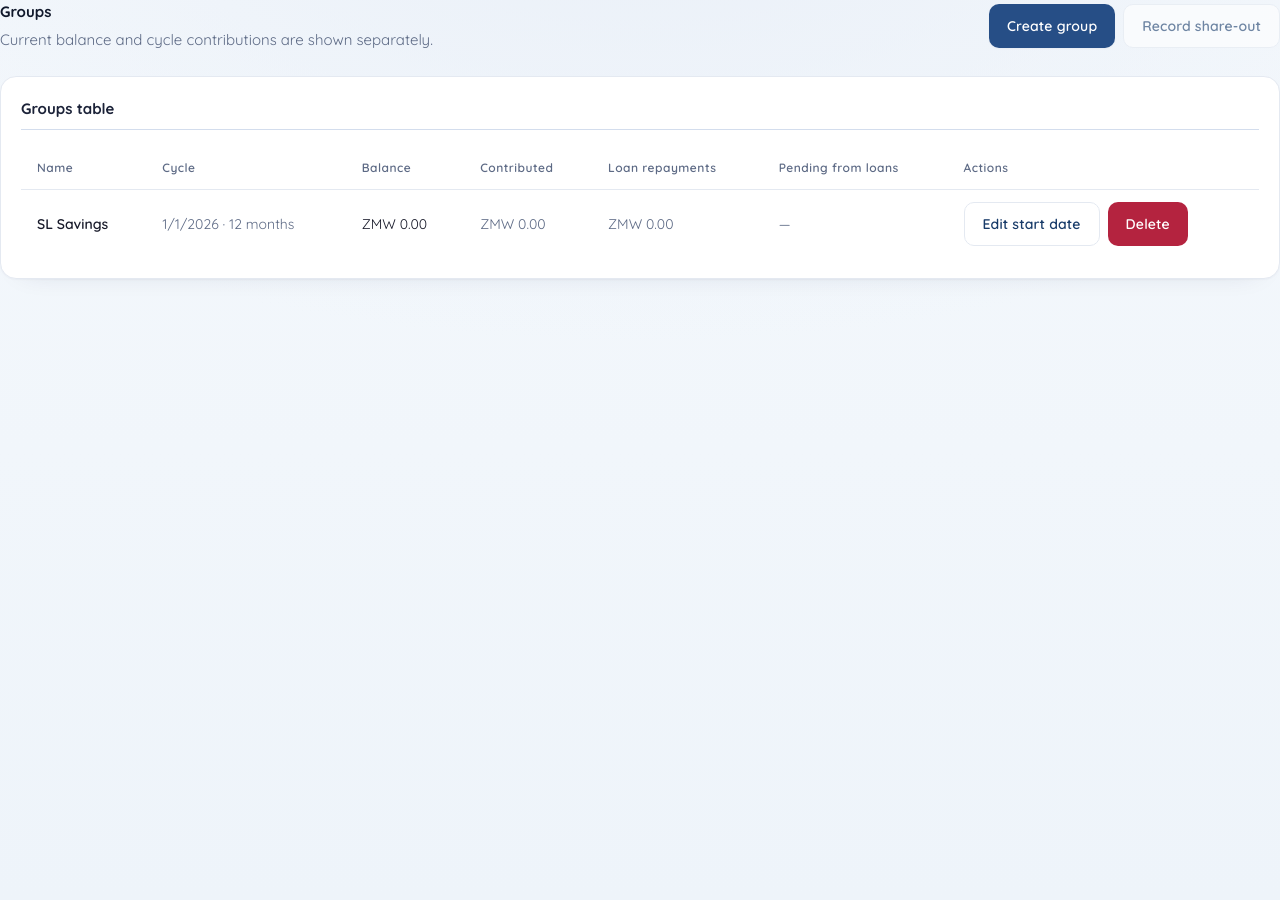
it: savings group settings › edits the current cycle start date
The width and height of the screenshot is (1280, 900).
Click the button "Edit start date". click: (1032, 224)
box: [964,202,1100,246]
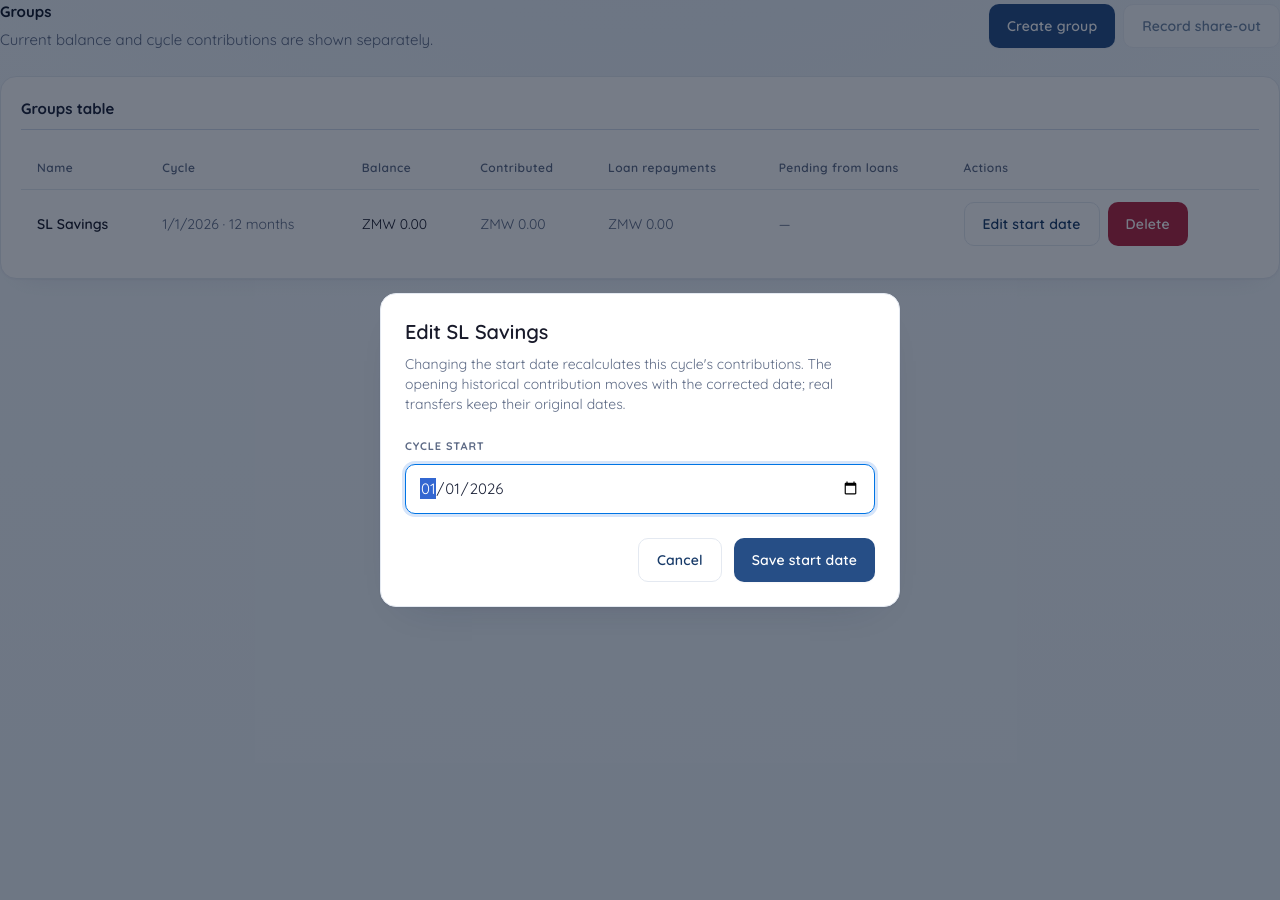
expect the date field labelled "Cycle start" holds "2026-01-01": met
Type "2026-02-01" into the date field labelled "Cycle start". click: (640, 489)
box: [405,464,875,514]
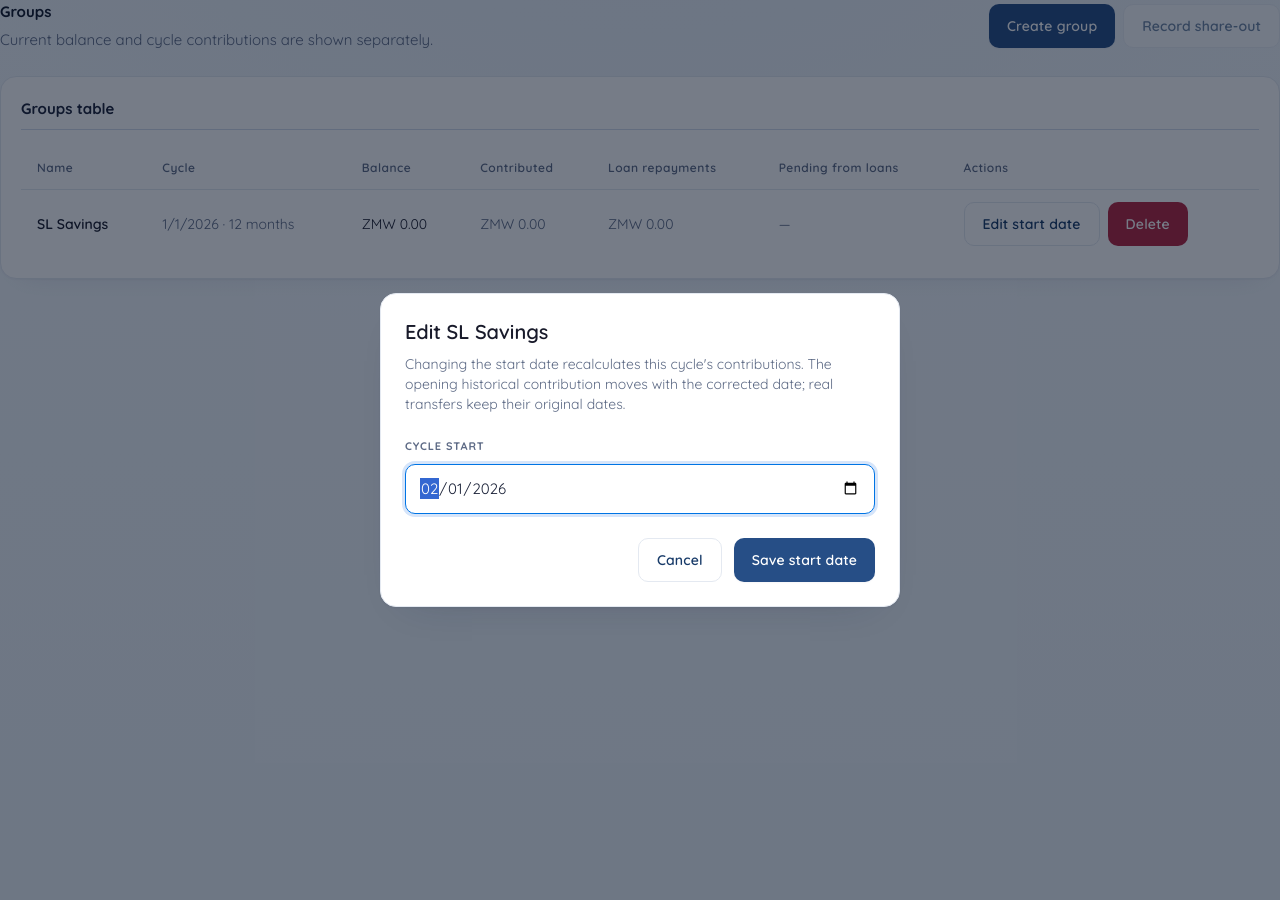
Click the button "Save start date". click: (804, 560)
box: [734,538,875,582]
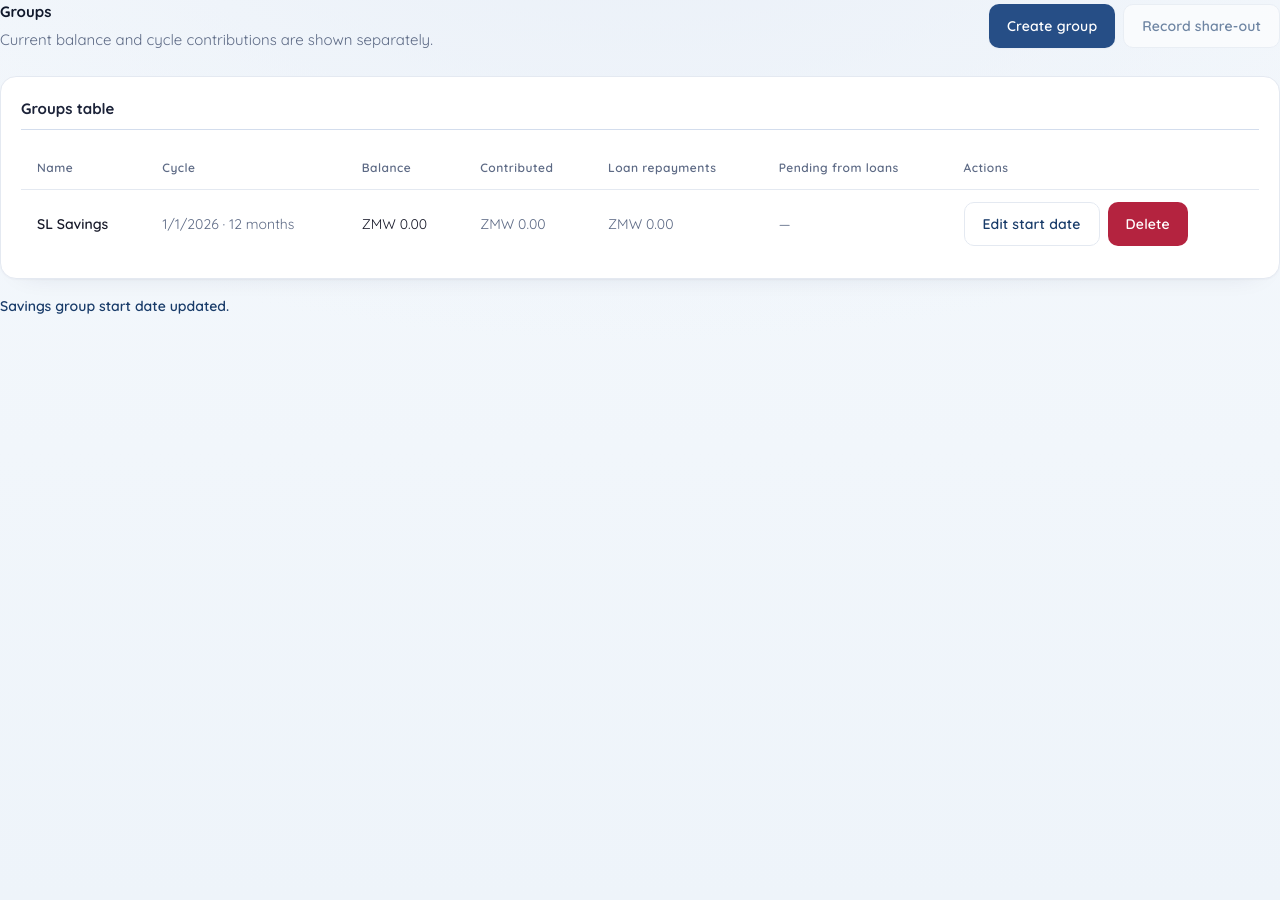
expect the text "Savings group start date updated." is shown: met, box [0,297,229,315]
